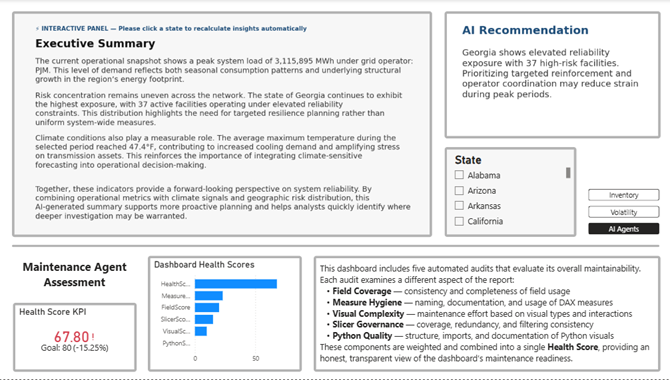

The page's visual inventory and layout, read from the dashboard file:
{"tool":"powerbi","page":{"name":"AI Agents","canvas":[1280,720],"ordinal":2},"visuals":[{"type":"pythonVisual","fields":{"Values":["_Measures.Peak_Load_MWh","_Measures.Max_Summer_Heat","_Measures.Lowest_Margin_Operator","_Measures.High_Risk_Facility_Count","_Measures.Highest_Risk_State","im3_datacenters_20260611_1634.state"]},"box":[26.4,23.1,794.8,427],"z":0},{"type":"slicer","fields":{"Values":["im3_datacenters_20260611_1634.state"]},"box":[844.7,279.7,249.5,170.1],"z":1000},{"type":"pythonVisual","fields":{"Values":["im3_datacenters_20260611_1634.state","_Measures.Max_Summer_Heat","_Measures.Peak_Load_MWh","_Measures.High_Risk_Facility_Count"]},"box":[844.2,23.1,408.9,240.7],"z":2000},{"type":"pageNavigator","box":[1116.9,359.1,134.2,86.9],"z":3000},{"type":"clusteredBarChart","title":"Dashboard Health Scores","fields":{"Category":["dashboard_health_score.Metric"],"Y":["Sum(dashboard_health_score.Value)"]},"box":[283.5,485.7,291,219.2],"z":4000},{"type":"kpi","title":"Health Score KPI","fields":{"Indicator":["_Measures.Health Score KPI"],"TrendLine":["dashboard_health_score.Metric"],"Goal":["_Measures.Health Target"]},"box":[28.3,574.5,234.3,130.4],"z":5000},{"type":"shape","box":[27,452,1224.6,30.2],"z":6000},{"type":"textbox","box":[26.5,485.7,236.2,88.8],"z":7000},{"type":"textbox","box":[597.2,485.7,655.8,219.2],"z":8000}]}

Visuals, with their boxes in screenshot pixels (x1, y1, x2, y2), scaled from the page's 1280x720 canvas onto the 670x380 screenshot:
pythonVisual - _Measures.Peak_Load_MWh x _Measures.Max_Summer_Heat: pyautogui.locateOnScreen(14, 12, 430, 238)
slicer - im3_datacenters_20260611_1634.state: pyautogui.locateOnScreen(442, 148, 573, 237)
pythonVisual - im3_datacenters_20260611_1634.state x _Measures.Max_Summer_Heat: pyautogui.locateOnScreen(442, 12, 656, 139)
pageNavigator: pyautogui.locateOnScreen(585, 190, 655, 235)
"Dashboard Health Scores" clusteredBarChart: pyautogui.locateOnScreen(148, 256, 301, 372)
"Health Score KPI" kpi: pyautogui.locateOnScreen(15, 303, 137, 372)
shape: pyautogui.locateOnScreen(14, 239, 655, 254)
textbox: pyautogui.locateOnScreen(14, 256, 138, 303)
textbox: pyautogui.locateOnScreen(313, 256, 656, 372)
